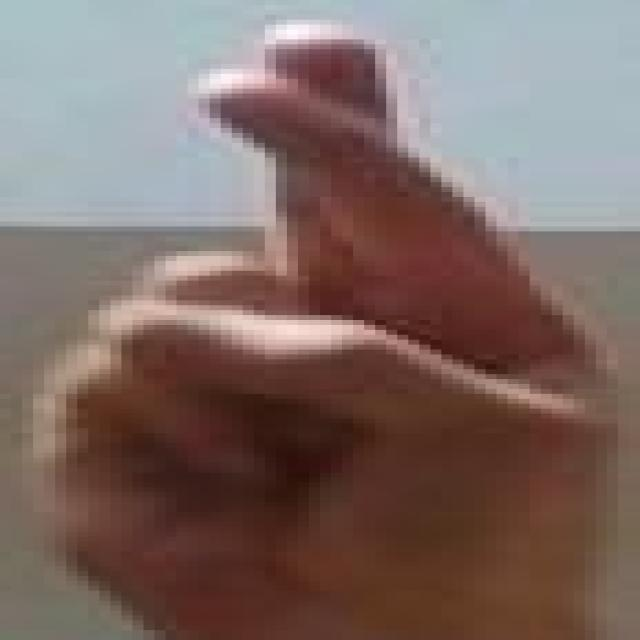R: (4, 16, 623, 603)
